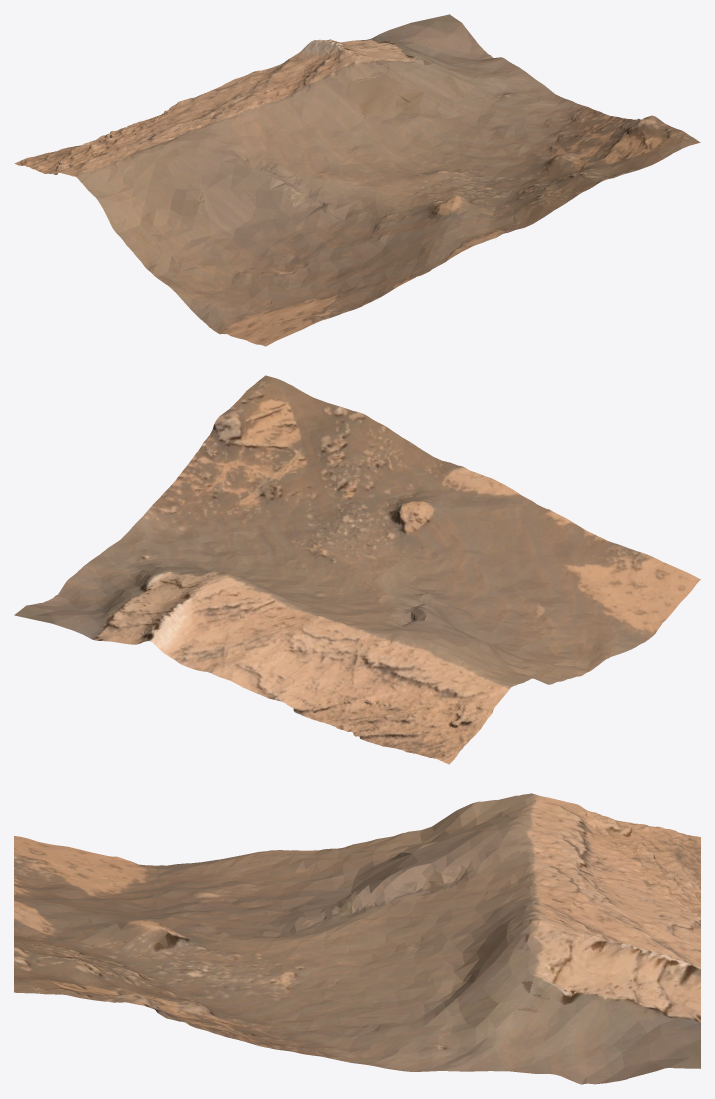
3 renders of one model, top to bottom at view 1: azimuth 30°, elevation 25°; view 2: azimuth 150°, elevation 25°; view 3: azimuth 270°, elevation 25°, orthographic. The views are drawn at different scales.
Size of the model in its own units: 1.04 by 0.2743 by 1.04.
2 materials, 2 textured.
